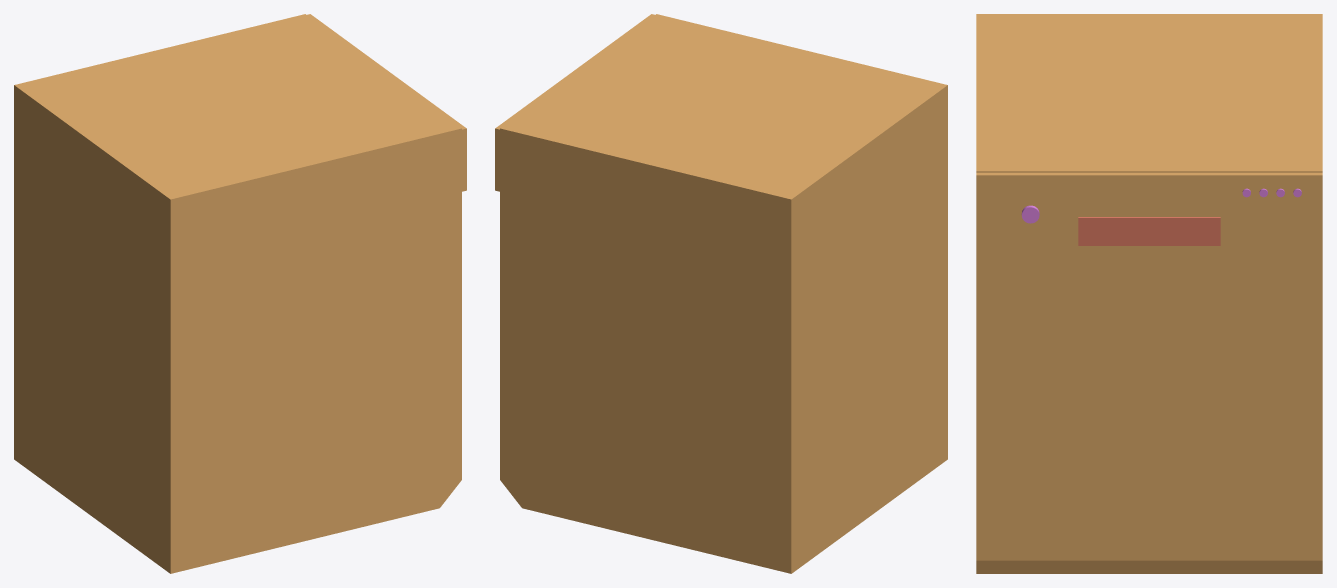
The model's file is dishwasher.fbx.
The picture shows the model from 3 angles, left to right: view 1: azimuth 30°, elevation 25°; view 2: azimuth 150°, elevation 25°; view 3: azimuth 270°, elevation 25°; orthographic projection. The views are drawn at different scales.
Parts seen in each view (by area): view 1: dishwasher, detail; view 2: dishwasher, detail; view 3: dishwasher, detail, handle, buttons.
Part boxes in pixels (x1,y1,x2,y2): dishwasher: (14, 14, 461, 573); detail: (307, 14, 466, 191); dishwasher: (500, 14, 947, 573); detail: (495, 14, 654, 191); dishwasher: (976, 14, 1322, 573); detail: (976, 172, 1322, 244); handle: (1078, 217, 1220, 245); buttons: (1021, 188, 1301, 223).
Bounding box in the file's own units: 206 × 246 × 186.
